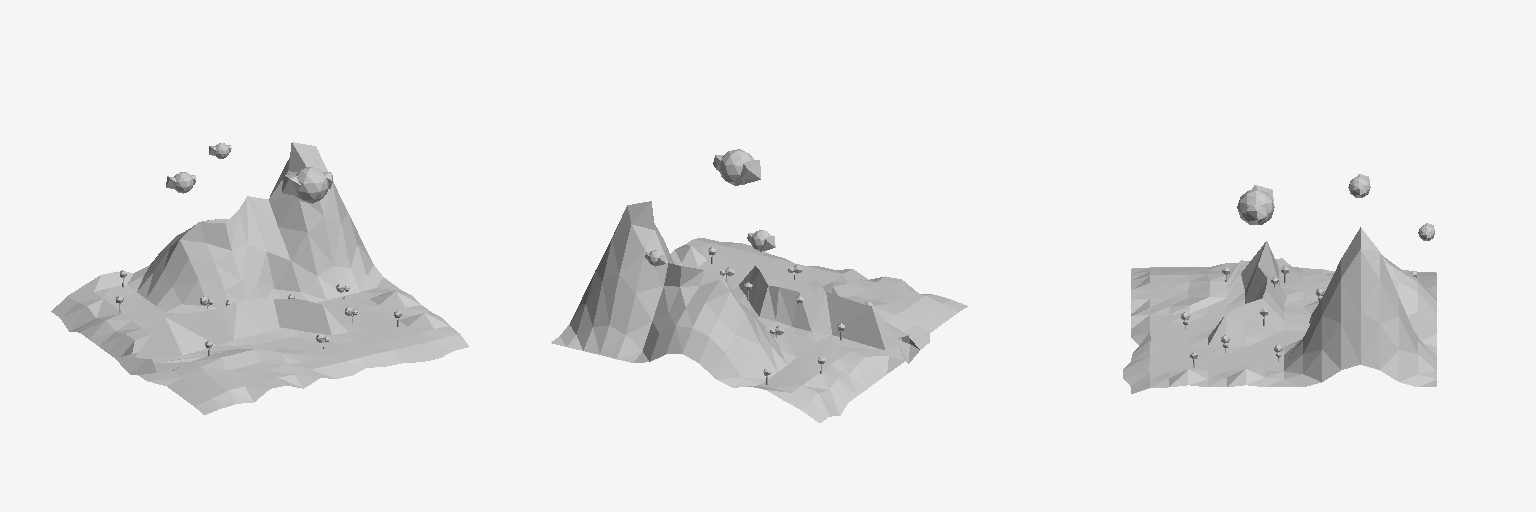
Rendered from Underground.obj.
3 views of the same model, side by side, from view 1: azimuth 30°, elevation 25°; view 2: azimuth 150°, elevation 25°; view 3: azimuth 270°, elevation 25° (orthographic).
Visible parts, largest first — view 1: Terreno_Plane.004, Icosphere.001_Icosphere.035; view 2: Terreno_Plane.004, Icosphere.001_Icosphere.035; view 3: Terreno_Plane.004, Icosphere.001_Icosphere.035.
Part boxes in pixels (x1,y1,x2,y2): Terreno_Plane.004: (51, 142, 468, 414); Icosphere.001_Icosphere.035: (282, 167, 332, 203); Terreno_Plane.004: (551, 201, 967, 422); Icosphere.001_Icosphere.035: (713, 149, 760, 185); Terreno_Plane.004: (1123, 227, 1436, 393); Icosphere.001_Icosphere.035: (1237, 185, 1274, 224).
Size of the model in its own units: 17.12 by 10.14 by 16.74.